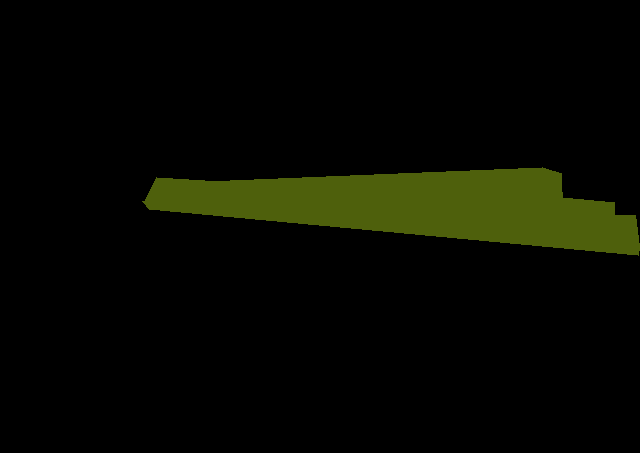Train: (142, 167, 639, 255)
